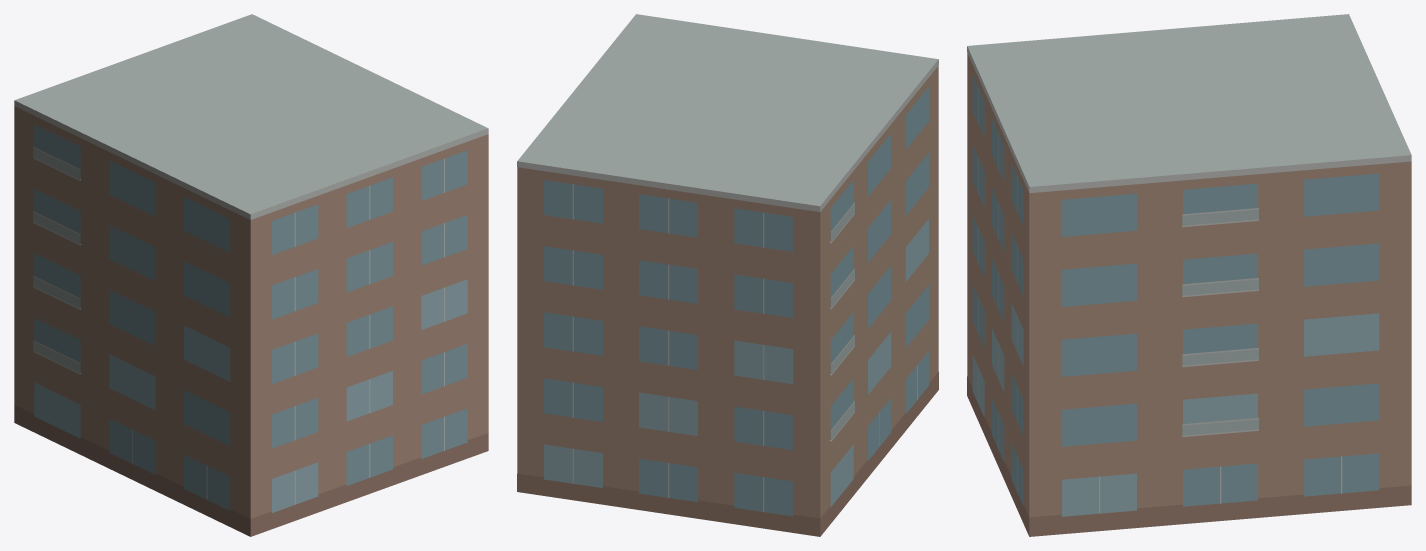
The model's file is survey-upis-32885729.glb.
3 renders of one model, left to right at view 1: azimuth 30°, elevation 25°; view 2: azimuth 150°, elevation 25°; view 3: azimuth 270°, elevation 25°, orthographic. The views are drawn at different scales.
Visible parts, largest first — view 1: survey-upis-32885729.tmp; view 2: survey-upis-32885729.tmp; view 3: survey-upis-32885729.tmp.
Part boxes in pixels (<box>): survey-upis-32885729.tmp: <box>14,14,488,536</box>; survey-upis-32885729.tmp: <box>517,14,938,536</box>; survey-upis-32885729.tmp: <box>967,14,1411,536</box>.
Bounding box in the file's own units: 14.6 × 13.75 × 15.85.
